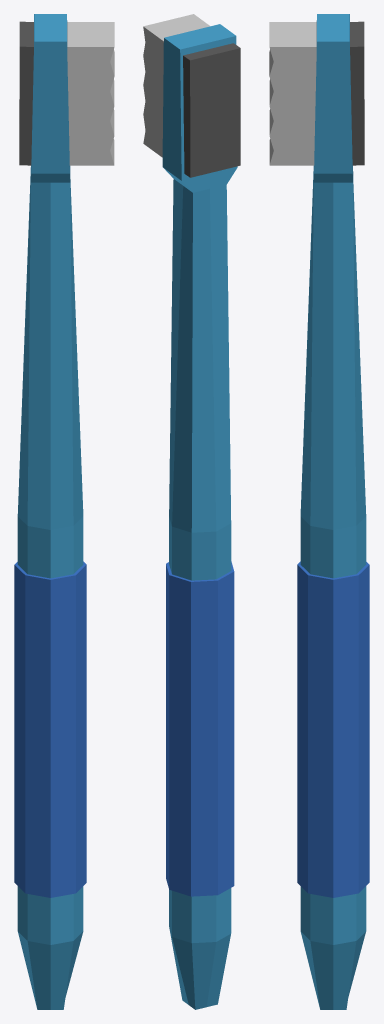
Rendered from Tooth Brush.fbx.
3 views of the same model, side by side, from view 1: azimuth 90°, elevation 25°; view 2: azimuth 210°, elevation 25°; view 3: azimuth 270°, elevation 25° (orthographic).
Parts seen in each view (by area): view 1: Tooth Brush; view 2: Tooth Brush; view 3: Tooth Brush.
Part boxes in pixels (left/top/right/bottom): Tooth Brush: left=14, top=14, right=114, bottom=1009; Tooth Brush: left=143, top=14, right=240, bottom=1009; Tooth Brush: left=269, top=14, right=369, bottom=1009.
Bounding box in the file's own units: 11 × 164 × 15.23.
